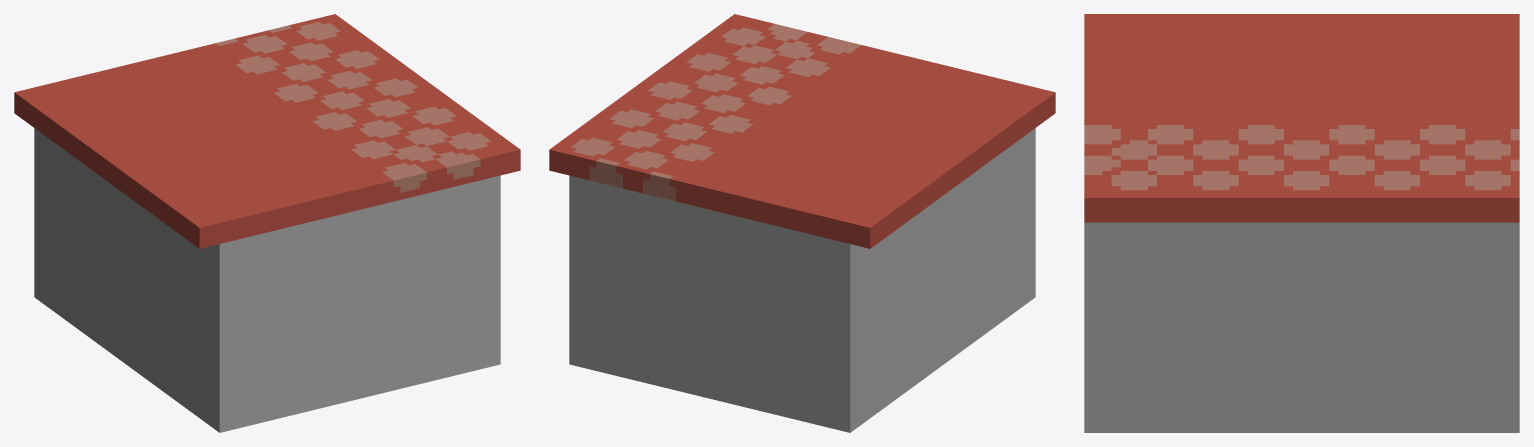
The model's file is center-counter.obj.
The picture shows the model from 3 angles, left to right: view 1: azimuth 30°, elevation 25°; view 2: azimuth 150°, elevation 25°; view 3: azimuth 270°, elevation 25°; orthographic projection. The views are drawn at different scales.
Size of the model in its own units: 4.8 by 3 by 4.8.
Materials: 1 (1 with a texture image).
